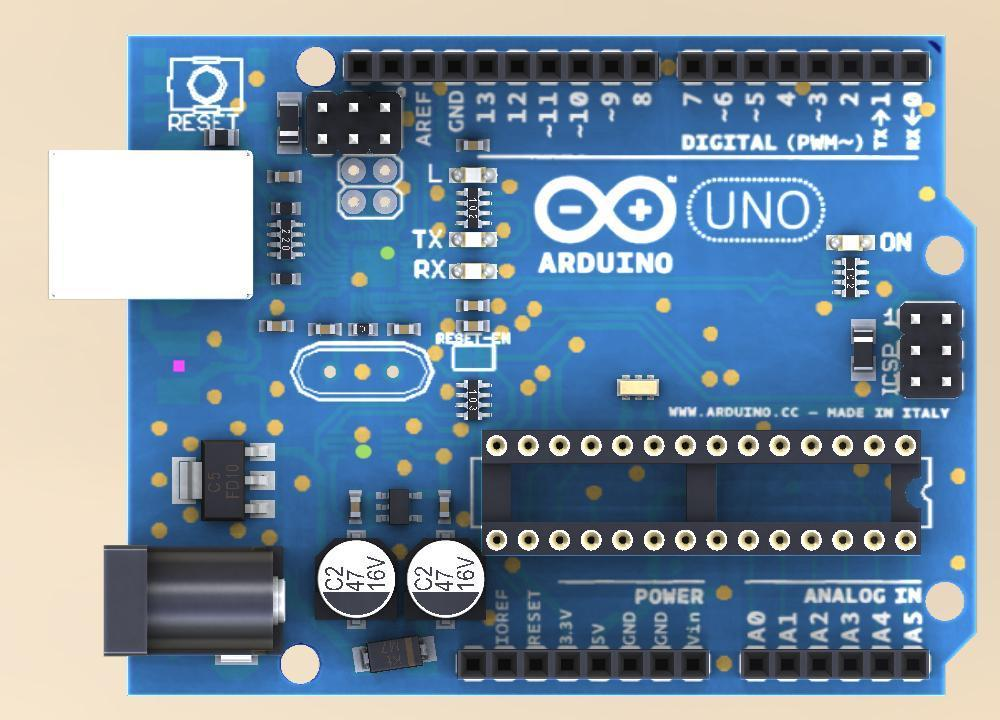16MHz Crystal: (611, 373, 666, 404)
47uF CAP: (311, 533, 404, 631), (406, 534, 489, 630)
CD1206: (273, 91, 302, 156), (848, 318, 876, 382)
Capa: (344, 489, 366, 529), (455, 136, 494, 155), (435, 489, 455, 526), (266, 168, 303, 186), (457, 296, 490, 316), (306, 320, 342, 338), (257, 317, 295, 334), (458, 317, 489, 336), (387, 322, 420, 338)
LED: (447, 261, 498, 285), (446, 164, 498, 186), (824, 232, 875, 251), (448, 232, 497, 251)
LMV358: (371, 486, 425, 530)
M7 diode: (351, 632, 438, 675)
PIN Header: (899, 299, 967, 402), (304, 89, 403, 157)
Ports: (340, 45, 660, 87), (677, 45, 933, 86), (452, 645, 713, 684), (736, 645, 934, 685)
Power: (100, 542, 290, 673)
Regulator: (139, 417, 285, 544)
Resistor: (203, 127, 240, 148), (269, 271, 303, 289), (270, 199, 302, 218), (346, 321, 379, 338)
Resistor pack: (453, 374, 495, 423), (264, 217, 307, 264), (451, 187, 495, 231), (830, 256, 870, 299)
USB: (48, 149, 254, 299)
